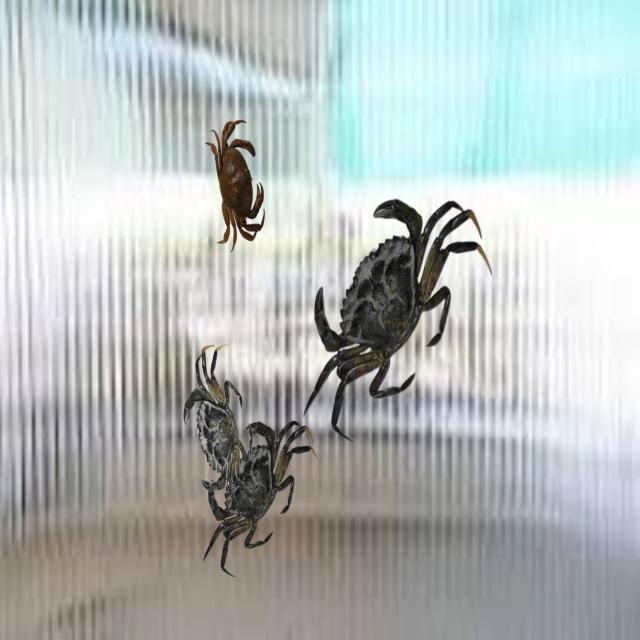European_Green_Crab: (276, 138, 496, 466), (190, 389, 324, 589), (162, 337, 259, 482)
